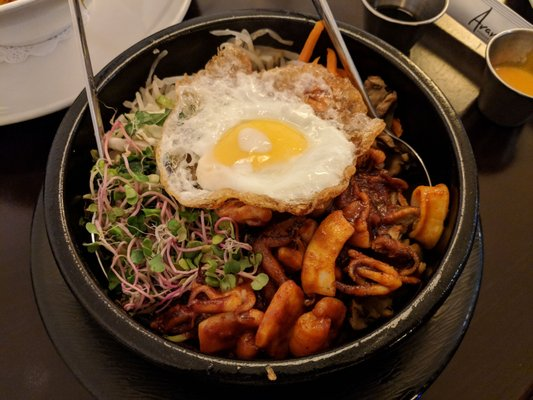pizza: (433, 0, 533, 128), (360, 0, 450, 57)
salad: (310, 0, 392, 125)
sushi: (37, 0, 522, 386)
